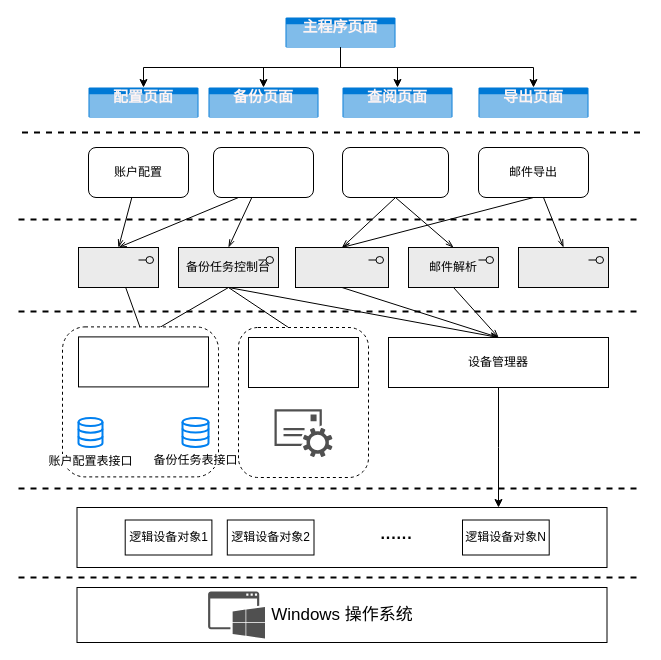
Image size: 661x660. Some labels were removed from this diagram. The centre of each missing label's shape, as x and y in pixels:
IMAP连接对象: the point at 303,433
数据库映射管理: the point at 143,361
邮件备份: the point at 263,172
邮件服务器管理: the point at 303,362
邮件查阅: the point at 395,172
邮件格式转换: the point at 563,267
邮件检索: the point at 341,267
配置管理: the point at 118,267
